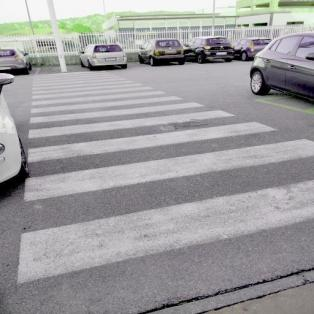Paso de Cebra: (28, 101, 241, 141)
